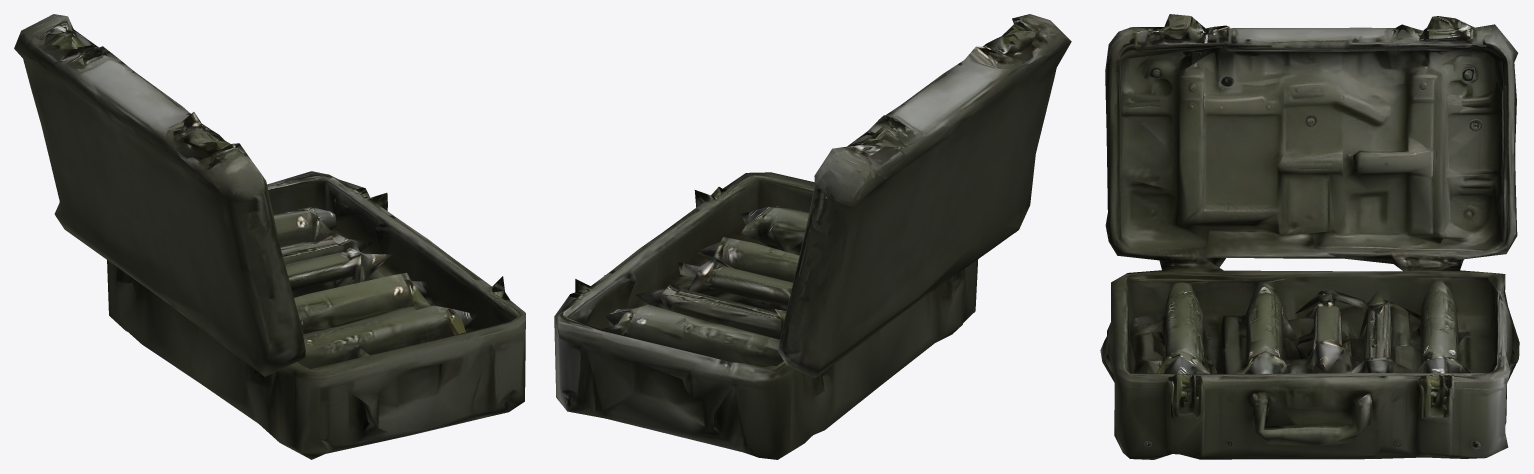
The model's file is am_rocket.glb.
3 renders of one model, left to right at view 1: azimuth 30°, elevation 25°; view 2: azimuth 150°, elevation 25°; view 3: azimuth 270°, elevation 25°, orthographic. The views are drawn at different scales.
Visible parts, largest first — view 1: tripo_node_ca0ef911-240c-4368-9b2e-0ba6d9a29a69; view 2: tripo_node_ca0ef911-240c-4368-9b2e-0ba6d9a29a69; view 3: tripo_node_ca0ef911-240c-4368-9b2e-0ba6d9a29a69.
Part boxes in pixels (x1,y1,x2,y2): tripo_node_ca0ef911-240c-4368-9b2e-0ba6d9a29a69: [14, 14, 525, 459]; tripo_node_ca0ef911-240c-4368-9b2e-0ba6d9a29a69: [554, 14, 1071, 459]; tripo_node_ca0ef911-240c-4368-9b2e-0ba6d9a29a69: [1100, 14, 1519, 459].
Size of the model in its own units: 0.8986 by 0.8215 by 1.
1 material, 1 textured.
